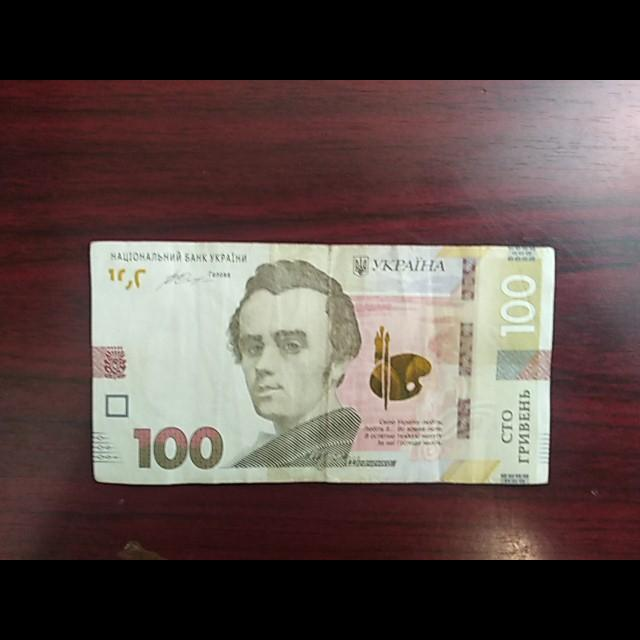100uah: (93, 243, 551, 482)
